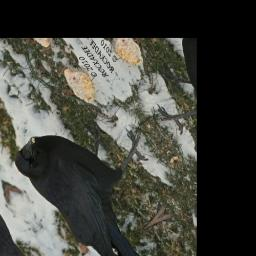Crow: (7, 84, 185, 256)
